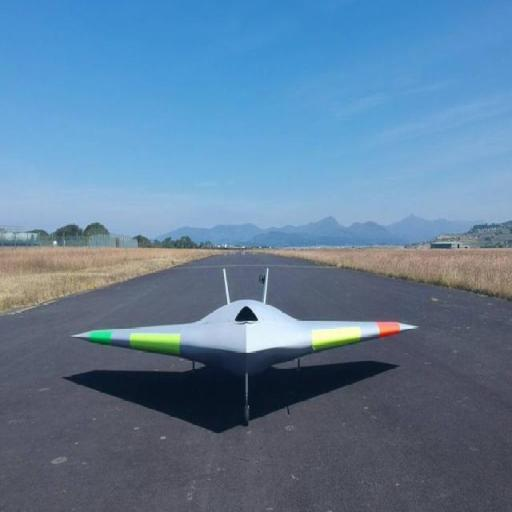uav: (62, 267, 420, 396)
